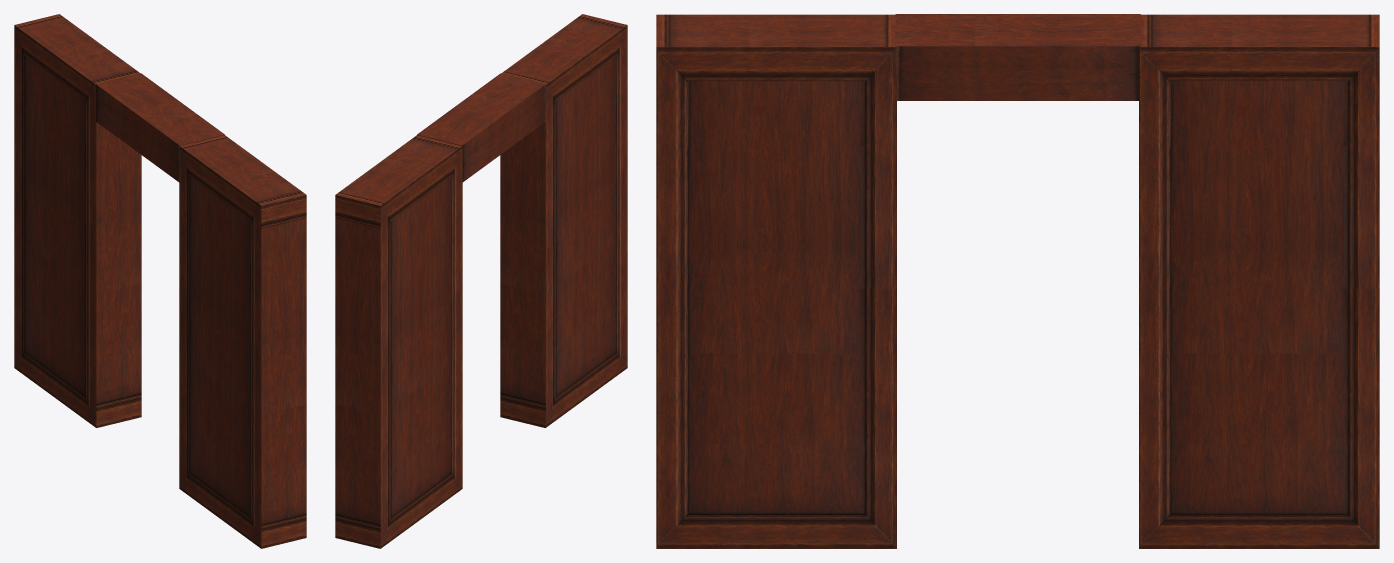
The model's file is shopDoorWay.glb.
The picture shows the model from 3 angles, left to right: view 1: azimuth 30°, elevation 25°; view 2: azimuth 150°, elevation 25°; view 3: azimuth 270°, elevation 25°; orthographic projection. The views are drawn at different scales.
Visible parts, largest first — view 1: Cube.001, Cube.003, Cube.002; view 2: Cube.003, Cube.001, Cube.002; view 3: Cube.001, Cube.003, Cube.002.
Boxes of the visible parts, left/top/right/bottom form: Cube.001: left=179, top=135, right=306, bottom=548; Cube.003: left=14, top=14, right=141, bottom=427; Cube.002: left=96, top=73, right=224, bottom=182; Cube.003: left=335, top=135, right=462, bottom=548; Cube.001: left=500, top=14, right=627, bottom=427; Cube.002: left=417, top=73, right=545, bottom=182; Cube.001: left=656, top=14, right=896, bottom=548; Cube.003: left=1139, top=14, right=1379, bottom=548; Cube.002: left=895, top=14, right=1140, bottom=100.
Bounding box in the file's own units: 0.0887 × 0.6434 × 0.839.
Materials: 3 (3 with a texture image).
